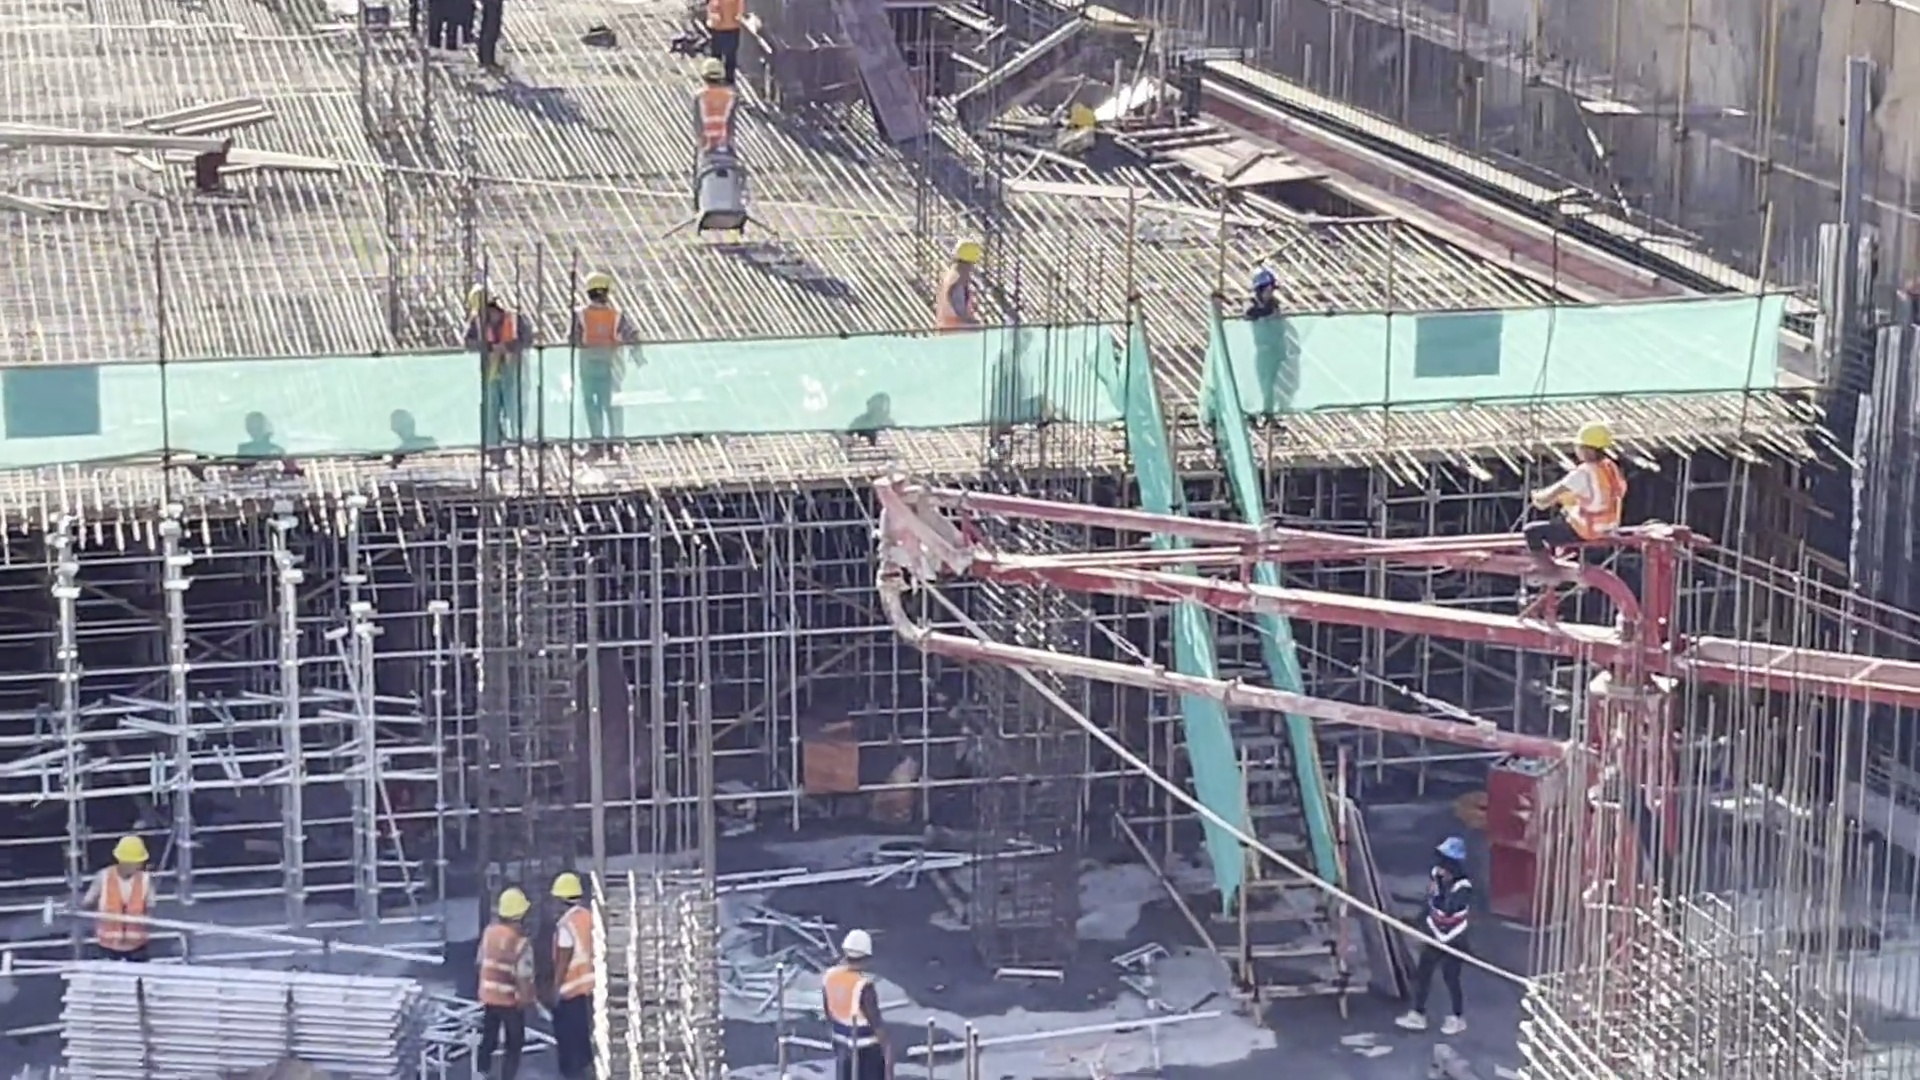helmet: (456, 275, 502, 312), (1574, 418, 1614, 457), (492, 885, 533, 923), (107, 833, 155, 862), (951, 229, 990, 265), (547, 866, 577, 904), (1437, 833, 1474, 864), (694, 52, 727, 83), (840, 931, 874, 957), (583, 267, 609, 292)
person: (1527, 422, 1629, 587), (538, 862, 608, 1080), (470, 884, 542, 1080), (1407, 839, 1474, 1050), (814, 925, 894, 1080), (71, 830, 162, 966), (462, 281, 531, 451), (575, 275, 644, 448), (678, 60, 749, 187), (1246, 264, 1297, 430), (926, 234, 995, 350), (705, 4, 744, 93)
vest: (88, 860, 157, 955), (1546, 463, 1621, 538), (548, 909, 593, 1023), (817, 963, 873, 1049), (477, 920, 525, 1015), (574, 300, 634, 369)
